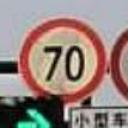speed_limit_70: (17, 14, 107, 107)
